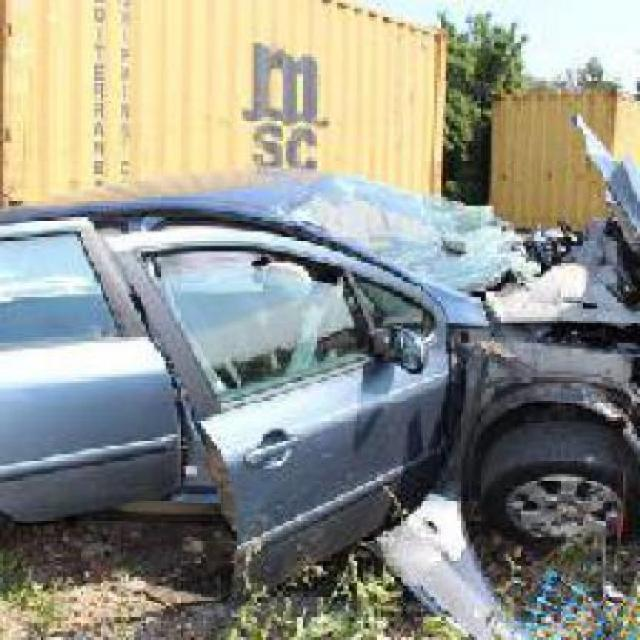damaged-windscreen: (299, 164, 553, 290)
